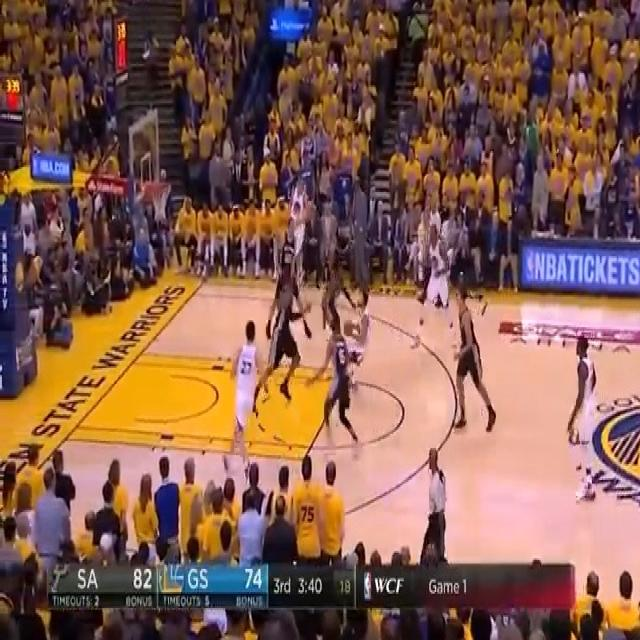hoop: (143, 172, 176, 234)
